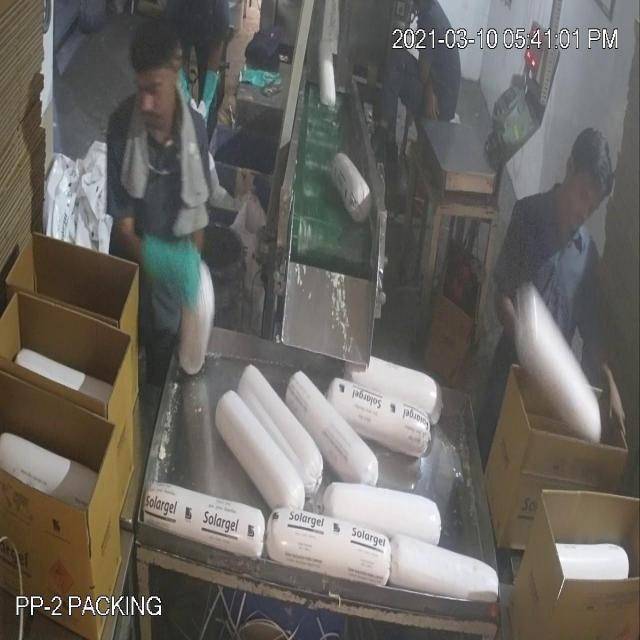No_Gloves: (48, 98, 608, 397)
